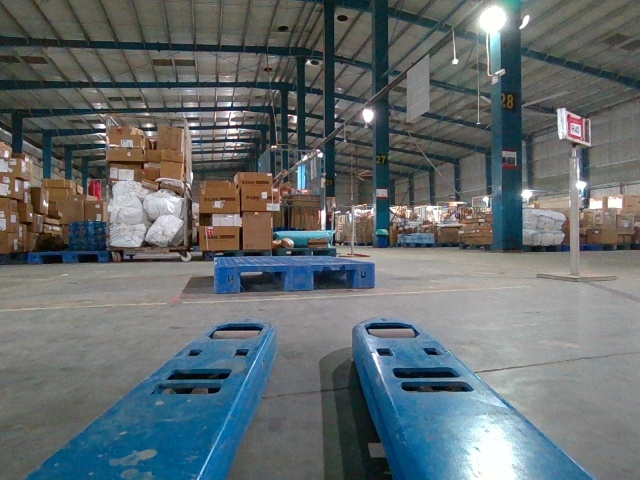block: (285, 264, 316, 290), (214, 267, 241, 292), (355, 262, 377, 288)
front: (215, 262, 375, 292)
hole pallet: (312, 265, 359, 291), (237, 268, 287, 292)
